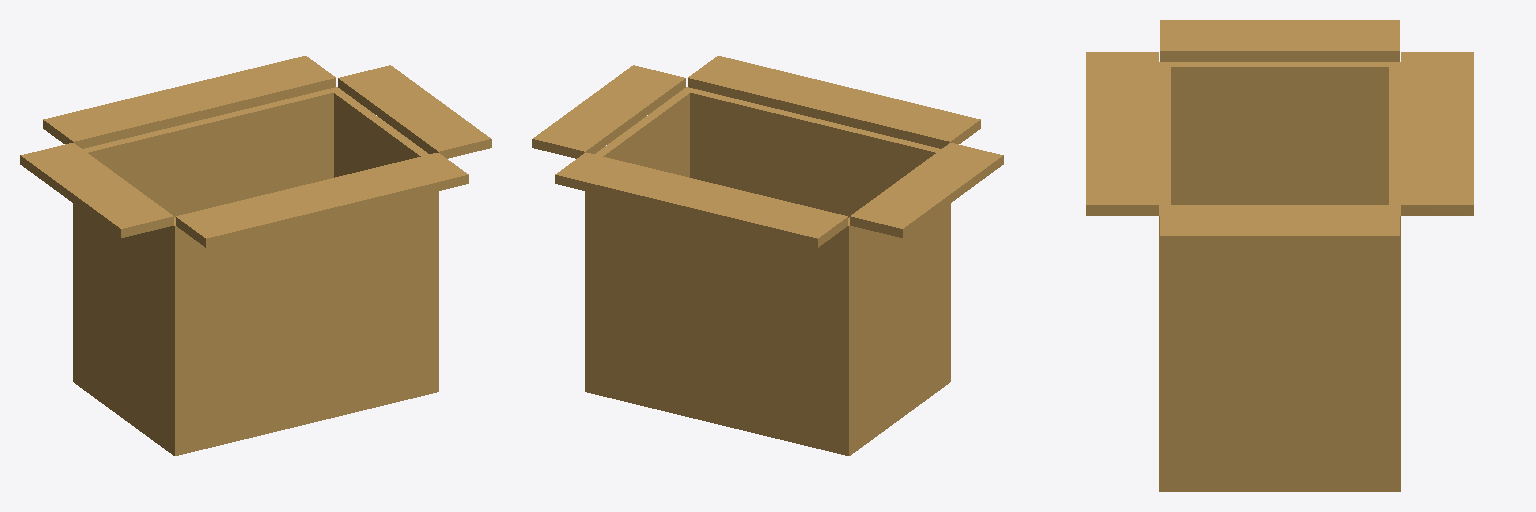
robot.urdf — generic_box:
<?xml version="1.0"?>
<robot name="generic_box">

  <link name="box_link">
  
    <visual>
      <origin xyz="0 0 0" rpy="0 0 0"/>
      <geometry>
        <mesh filename="package://Generic_Box_flaps_out/meshes/Generic Box.stl" scale="1.0 1.0 1.0"/>
      </geometry>
      <material name="cardboard">
        <color rgba="0.8 0.65 0.4 1.0"/>
      </material>
    </visual>

    <collision>
      <origin xyz="0 0 0" rpy="0 0 0"/>
      <geometry>
        <mesh filename="package://Generic_Box_flaps_out/meshes/Generic Box.stl" scale="1.0 1.0 1.0"/>
      </geometry>
    </collision>

    <inertial>
      <mass value="2.0"/>
      <origin xyz="0 0 0" rpy="0 0 0"/>
      <inertia
        ixx="0.01" ixy="0.0" ixz="0.0"
        iyy="0.01" iyz="0.0"
        izz="0.01"/>
    </inertial>
    
  </link>

</robot>

--- Render facts (derived) ---
The picture shows the robot from 3 angles, left to right: view 1: azimuth 30°, elevation 25°; view 2: azimuth 150°, elevation 25°; view 3: azimuth 270°, elevation 25°; orthographic projection.
Model generic_box with 1 links and 0 joints (none), rooted at box_link, posed all joints at 0.
Visible links, largest first — view 1: box_link; view 2: box_link; view 3: box_link.
Link boxes in pixels (bbox=[...]): box_link: bbox=[20, 56, 491, 455]; box_link: bbox=[532, 56, 1003, 455]; box_link: bbox=[1086, 20, 1473, 491].
Bounding box of the posed robot: 0.42 × 0.32 × 0.26 m (x, y, z).
Meshes: 1 distinct files referenced, 1 mesh visuals loaded (1 binary STL).